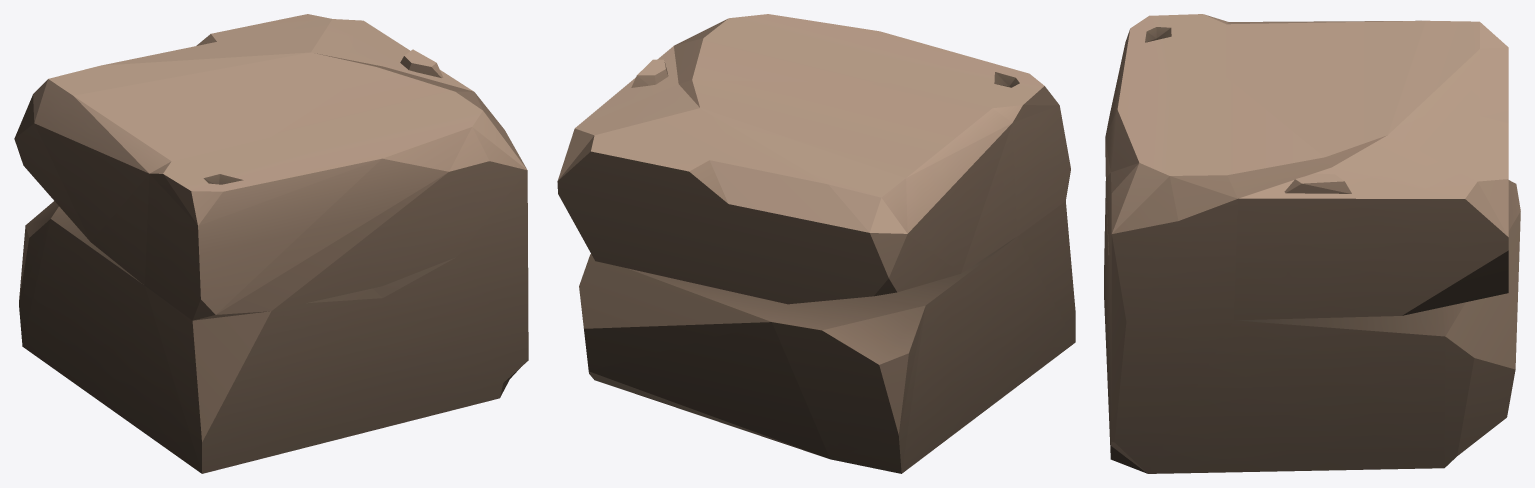
File: Rock_Medium_2B.fbx
3 renders of one model, left to right at view 1: azimuth 30°, elevation 25°; view 2: azimuth 150°, elevation 25°; view 3: azimuth 270°, elevation 25°, orthographic. The views are drawn at different scales.
Visible parts, largest first — view 1: Rock_Medium_2B; view 2: Rock_Medium_2B; view 3: Rock_Medium_2B.
Boxes of the visible parts, x1=… form: Rock_Medium_2B: x1=14, y1=14, x2=528, y2=473; Rock_Medium_2B: x1=557, y1=14, x2=1075, y2=473; Rock_Medium_2B: x1=1104, y1=14, x2=1520, y2=473.
Size of the model in its own units: 1.99 by 1.49 by 1.93.
